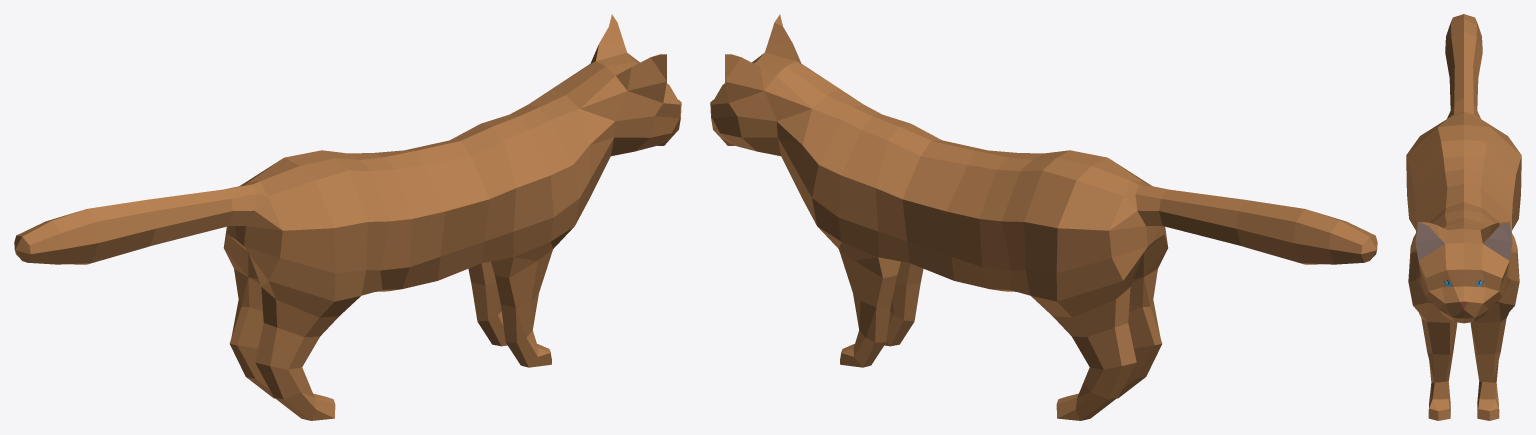
The model's file is cat.fbx.
The picture shows the model from 3 angles, left to right: view 1: azimuth 30°, elevation 25°; view 2: azimuth 150°, elevation 25°; view 3: azimuth 270°, elevation 25°; orthographic projection. The views are drawn at different scales.
Parts seen in each view (by area): view 1: mesh_cat; view 2: mesh_cat; view 3: mesh_cat.
Part boxes in pixels (left/top/right/bottom): mesh_cat: left=14, top=14, right=681, bottom=420; mesh_cat: left=710, top=14, right=1377, bottom=420; mesh_cat: left=1406, top=14, right=1521, bottom=420.
Size of the model in its own units: 67.08 by 27.83 by 12.11.
Materials: 5 (2 with a texture image).
